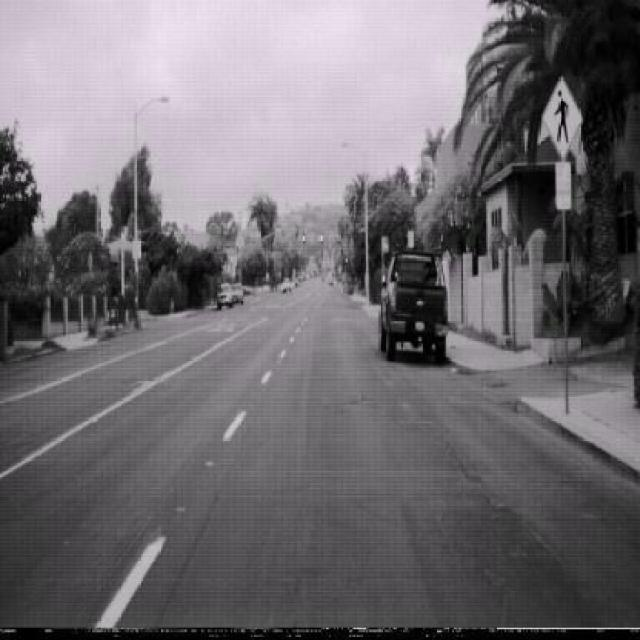pedestrianCrossing: (540, 77, 583, 163)
